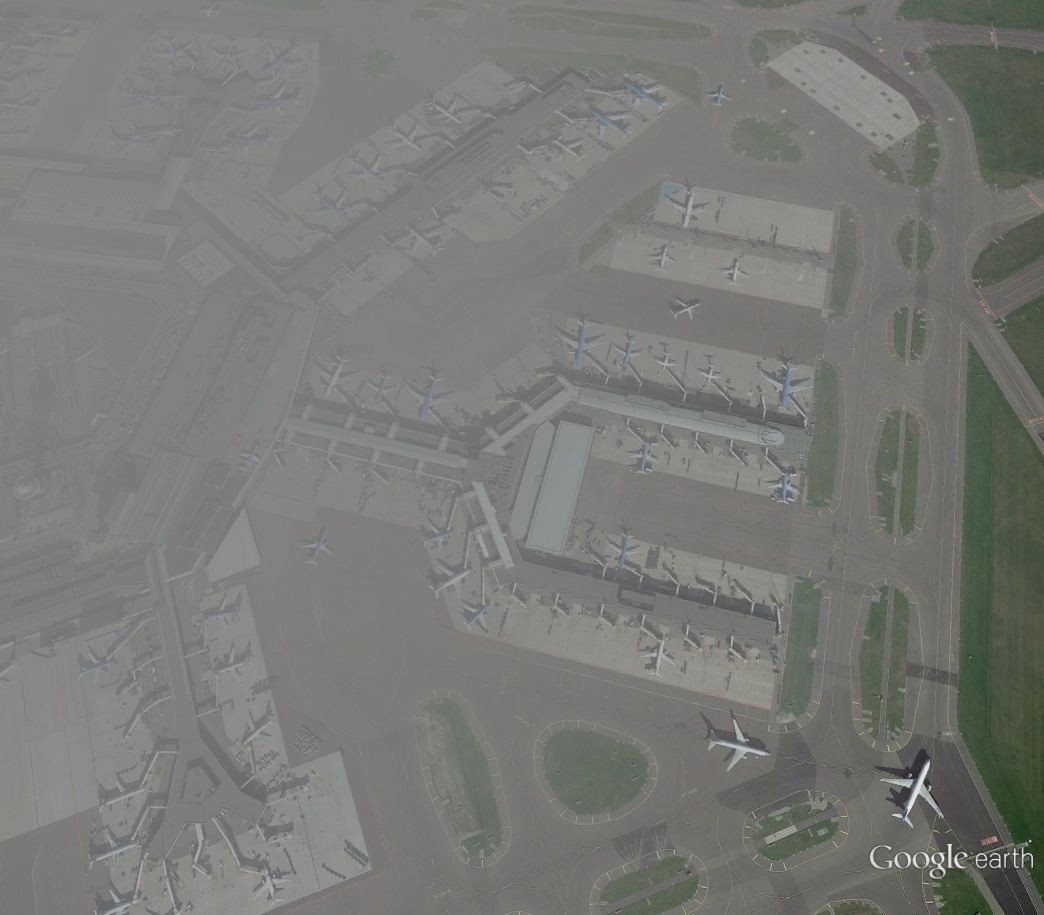aircraft: (878, 756, 948, 834), (705, 715, 773, 776), (398, 373, 459, 426), (85, 825, 142, 879), (555, 320, 613, 373), (757, 362, 818, 411), (307, 356, 368, 402), (95, 770, 150, 817), (667, 183, 715, 232), (618, 78, 674, 118), (427, 560, 476, 605), (218, 121, 274, 160), (74, 644, 120, 691), (105, 121, 158, 159), (261, 41, 308, 82), (589, 106, 639, 144), (213, 641, 257, 684), (250, 862, 292, 907), (119, 79, 168, 117), (252, 82, 305, 117), (204, 587, 247, 630), (238, 708, 280, 752), (153, 34, 196, 75), (406, 222, 452, 259), (343, 148, 386, 187), (642, 639, 681, 680), (424, 91, 467, 128), (299, 525, 335, 569), (383, 118, 425, 155), (309, 187, 349, 225), (418, 519, 458, 556), (204, 40, 250, 72), (767, 469, 804, 508), (607, 530, 642, 571), (458, 598, 493, 639), (612, 334, 647, 373), (363, 369, 398, 408), (627, 442, 663, 479), (664, 294, 702, 326), (34, 22, 83, 45), (719, 258, 752, 290), (1, 89, 45, 113), (551, 137, 587, 166), (648, 243, 677, 277), (239, 444, 265, 477), (1, 121, 33, 147), (707, 83, 737, 110), (695, 362, 723, 389), (653, 348, 677, 375), (199, 3, 225, 21)
